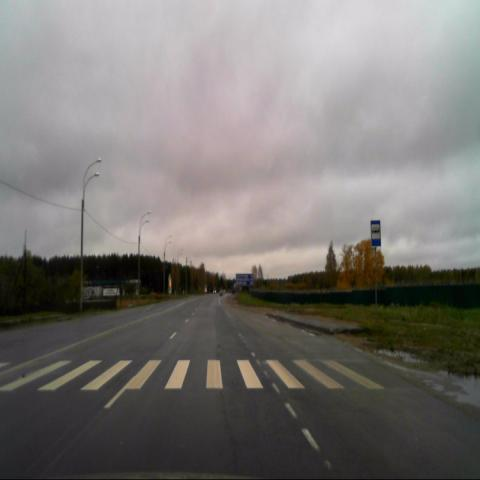5_16: (371, 220, 381, 247)
